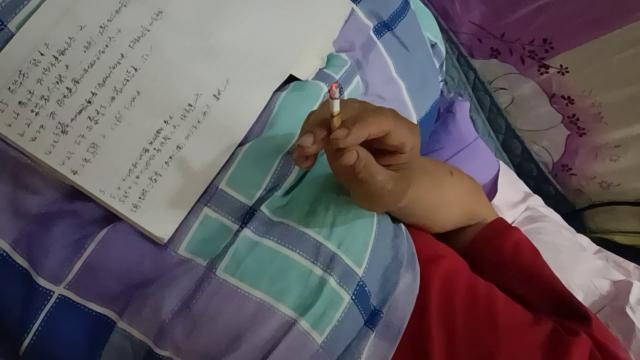Cigarette: (328, 82, 342, 142)
